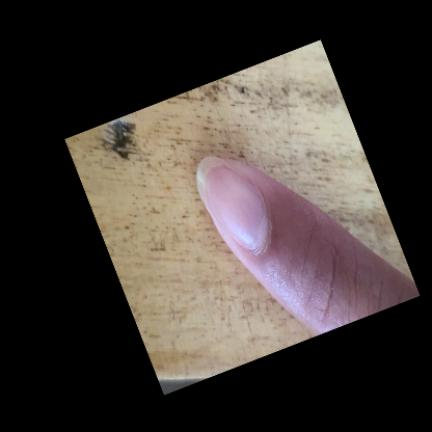Nail: (196, 156, 267, 250)
